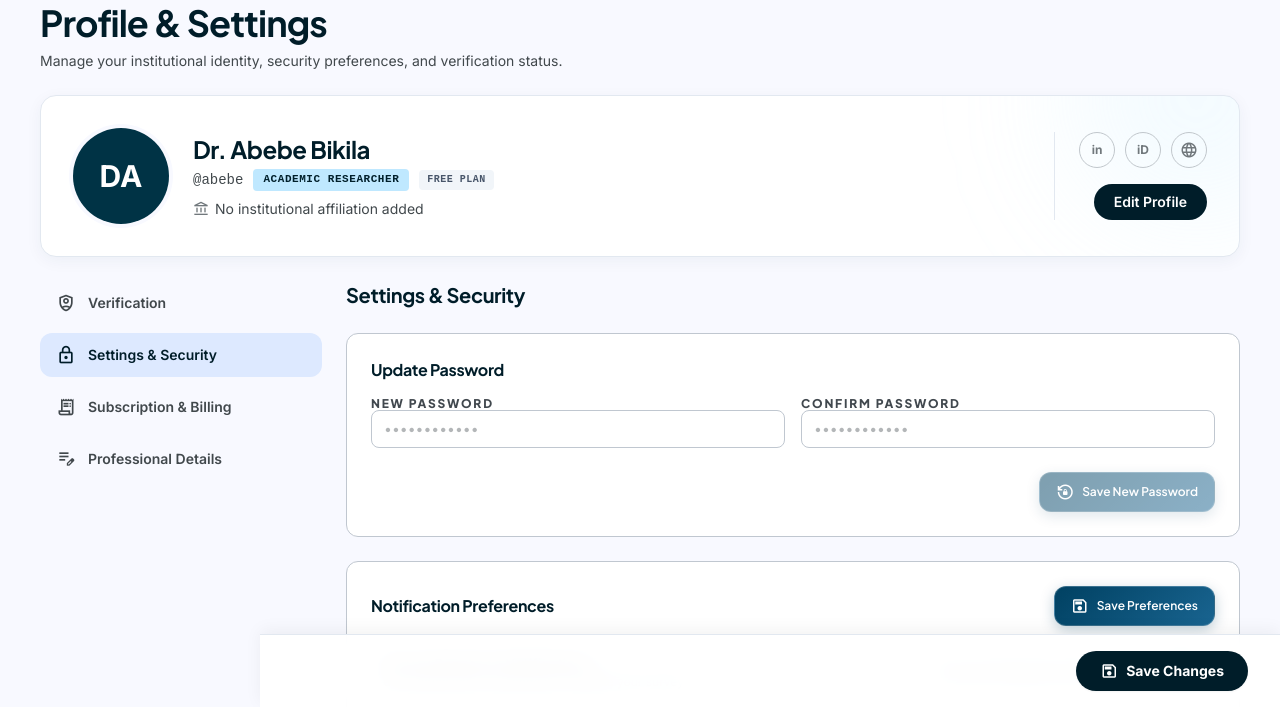
ResearcherProfilePage - Notification Preferences (REH-136) › persists toggled notification preferences when clicking Save Preferences
// Switch to Settings & Security tab
Click the button "Settings & Security" at (181, 355), box [40,333,322,377]
(page scrolled)
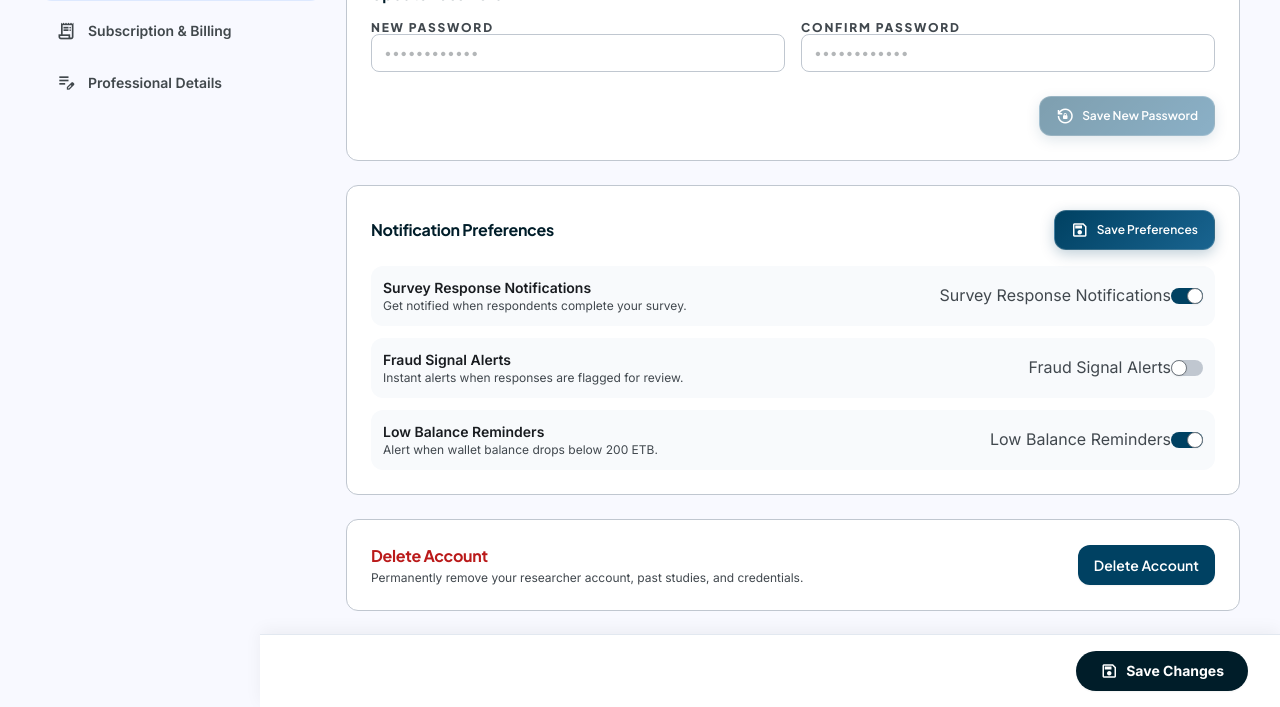
// Toggle the Fraud Signal Alerts (index 1) to true
Click the switch labelled "Fraud Signal Alerts" at (1116, 368), box [1028,355,1203,381]
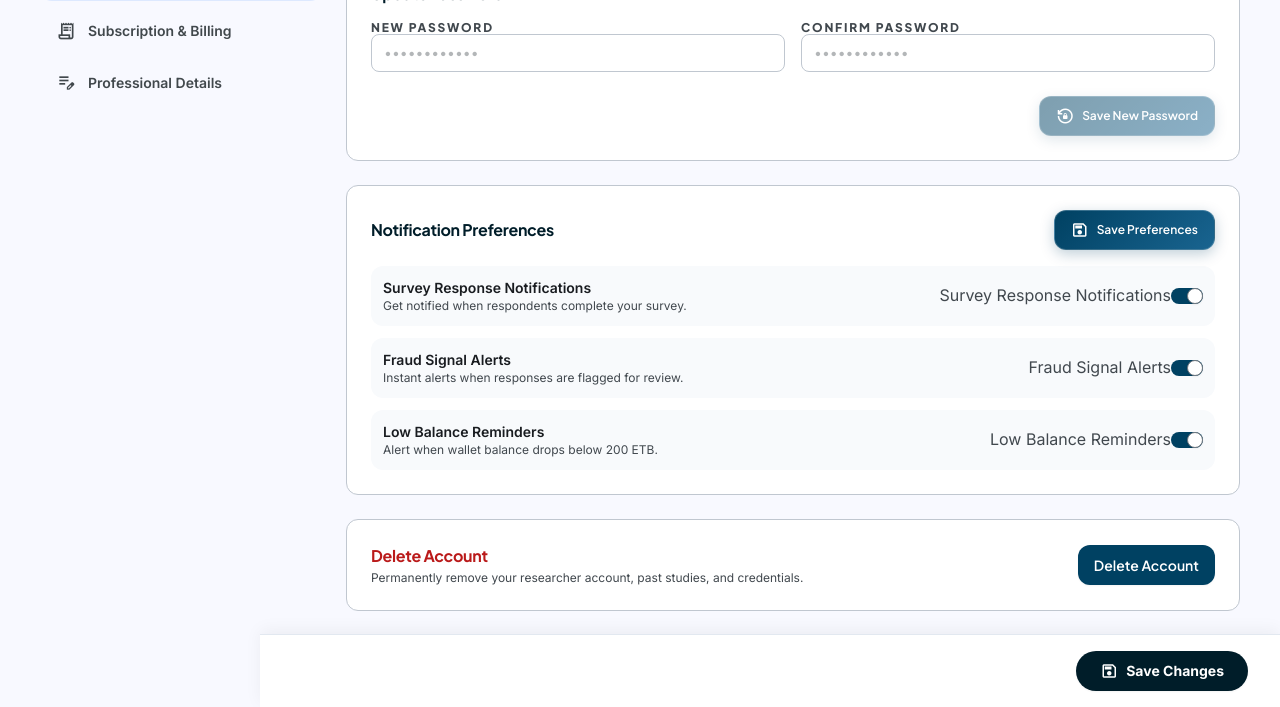
// Click Save Preferences
Click the button "Save Preferences" at (1134, 230), box [1054,210,1215,250]
(page scrolled)
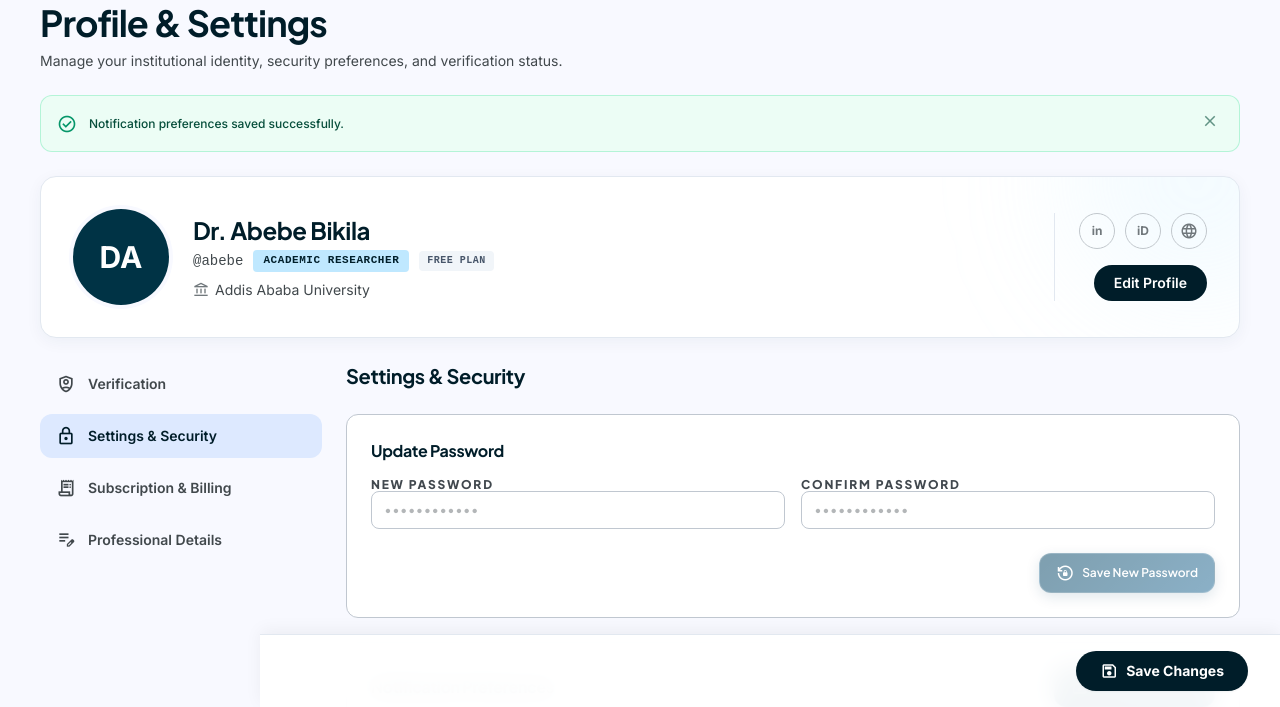
Now the text "Notification preferences saved successfully." is shown, box [89,116,344,131]
